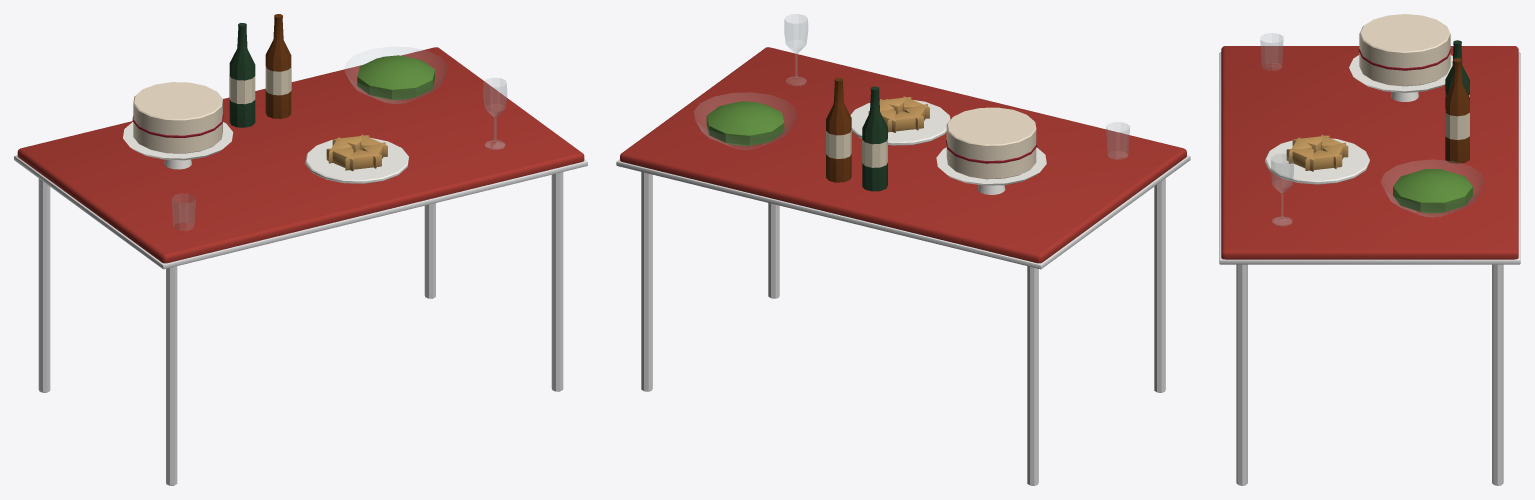
Rendered from mae_kitchen_table.glb.
The picture shows the model from 3 angles, left to right: view 1: azimuth 30°, elevation 25°; view 2: azimuth 150°, elevation 25°; view 3: azimuth 270°, elevation 25°; orthographic projection.
Visible parts, largest first — view 1: mae_kitchen_table; view 2: mae_kitchen_table; view 3: mae_kitchen_table.
Part boxes in pixels (x1=…): mae_kitchen_table: x1=14, y1=14, x2=587, y2=485; mae_kitchen_table: x1=616, y1=14, x2=1190, y2=485; mae_kitchen_table: x1=1219, y1=14, x2=1520, y2=485.
Size of the model in its own units: 1.41 by 1.07 by 0.86.
